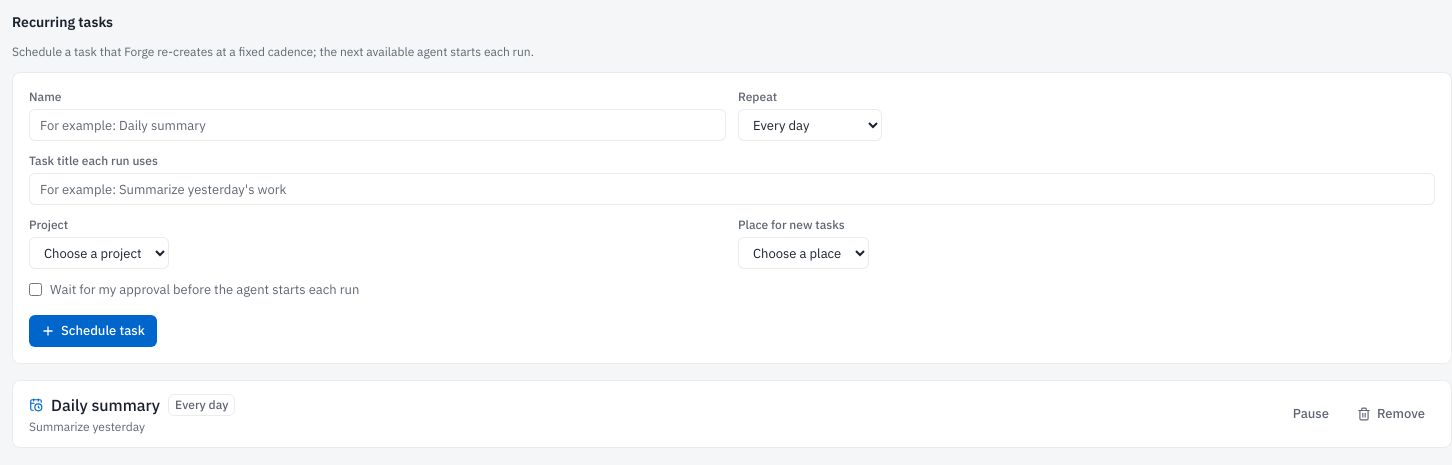
Scenario: RecurringTasksBlock › lists schedules and pauses with one click
Expected: the text "Daily summary" is shown, [51,393,160,417]
Click the button with test id "toggle-recurring-task-r-1": (1311,414) [1283,398,1339,430]
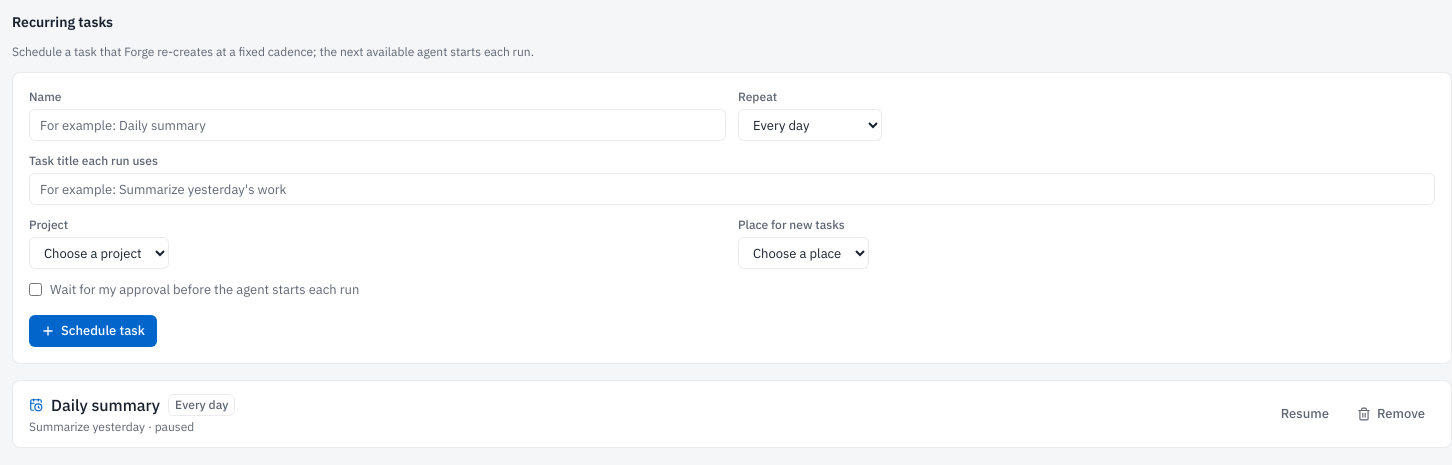
Result: the list item with test id "recurring-task-r-1" shows "paused" at [145,419,194,434]
